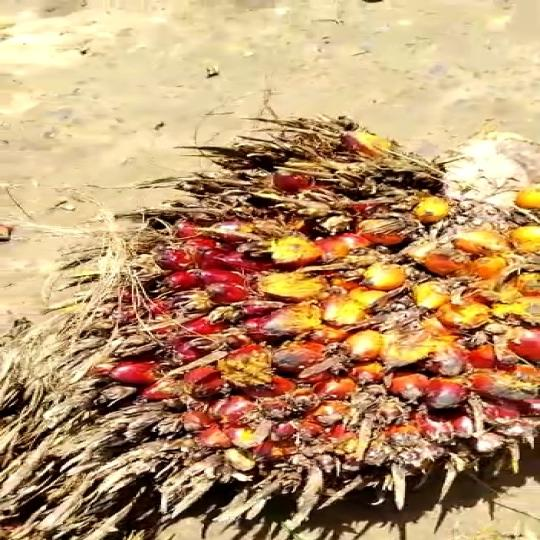masak: (68, 93, 540, 509)
